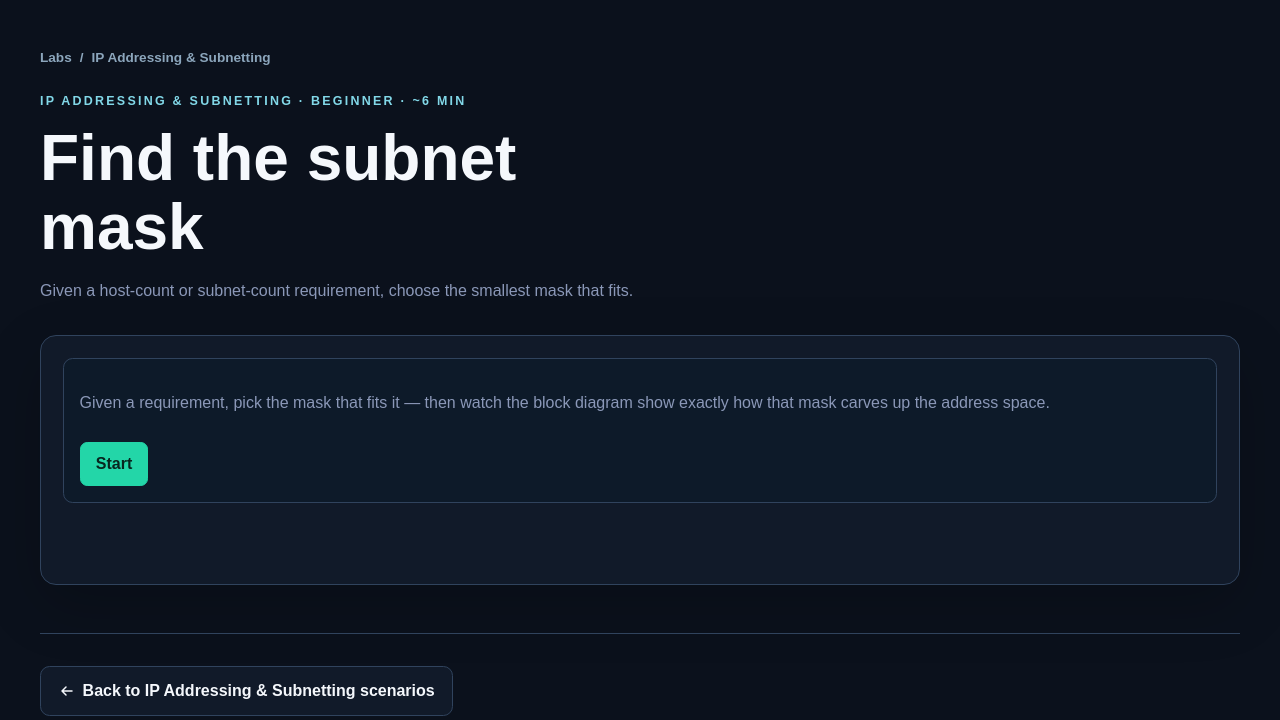
lab scenario route › renders a genuinely independent challenge-style scenario
Expected: the heading "Find the subnet mask" is shown, [40,122,516,263]
Click the button "Start": (114, 464) [80,442,148,486]
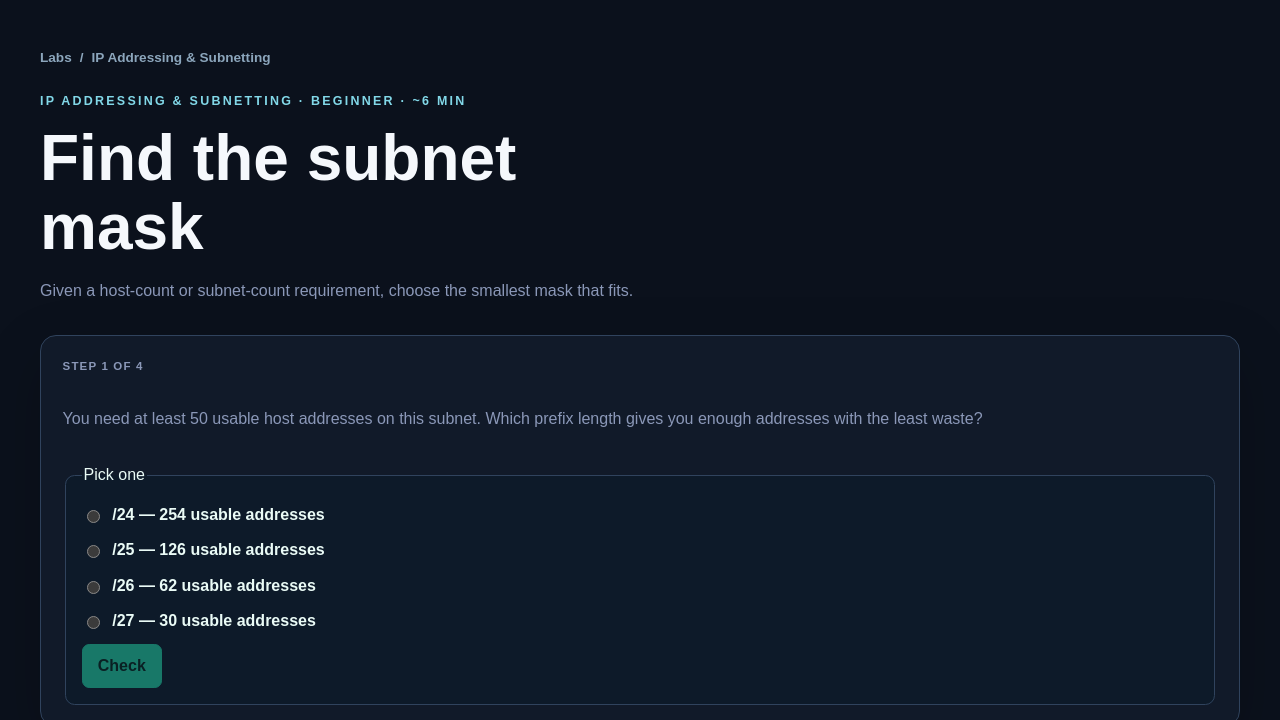
Click the radio button labelled "/24 — 254 usable addresses": (93, 517) [87,510,100,523]
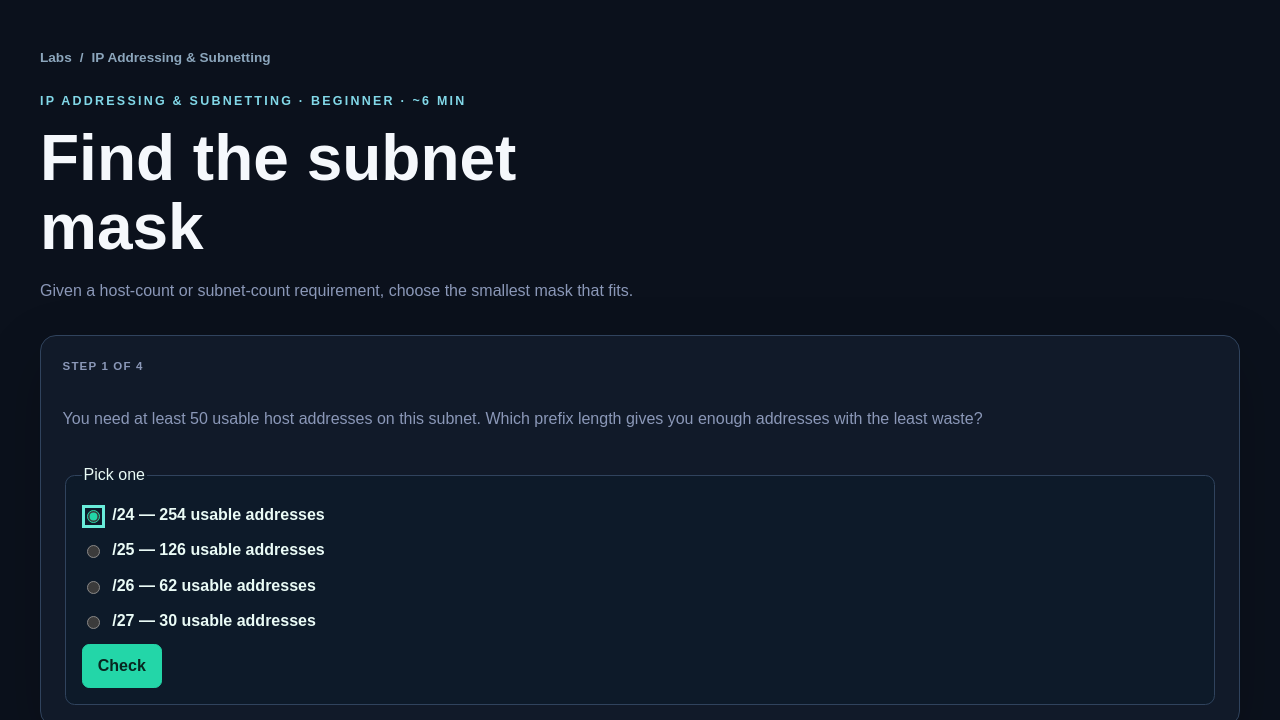
Click the button "Check": (122, 666) [82,644,162,688]
(page scrolled)
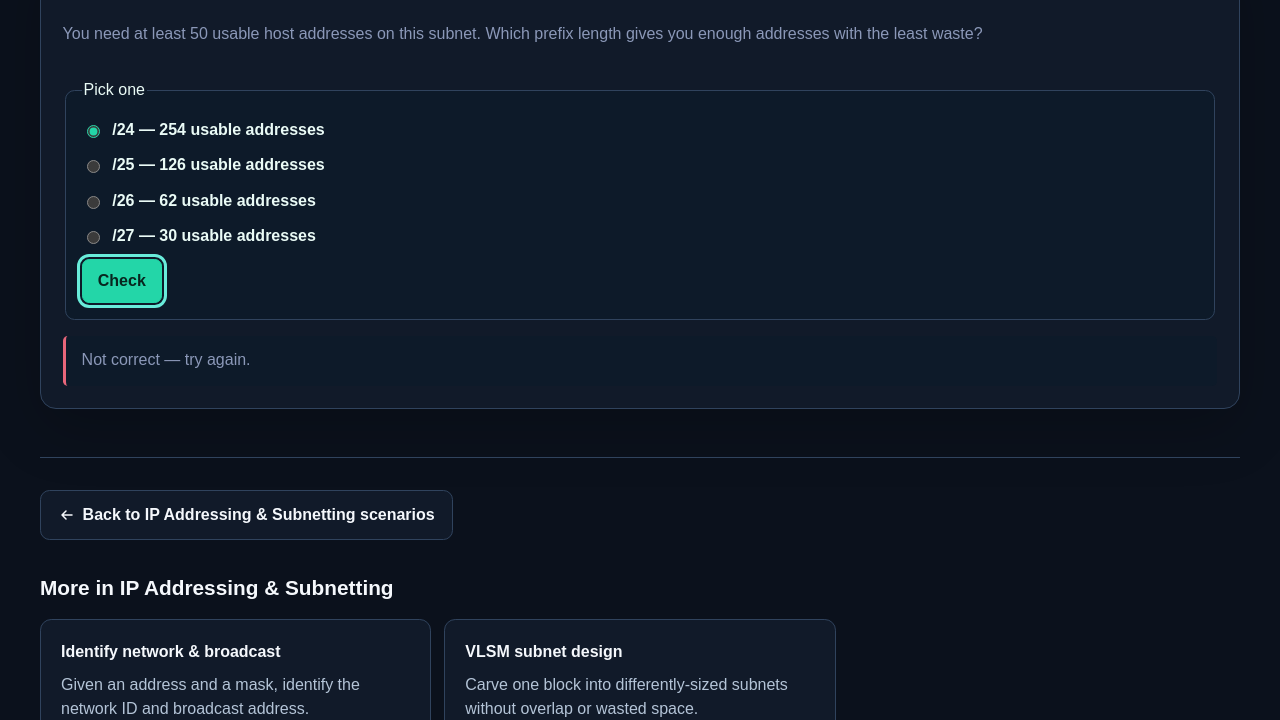
Expected: the message "Not correct — try again." is shown, [63,336,1217,386]
